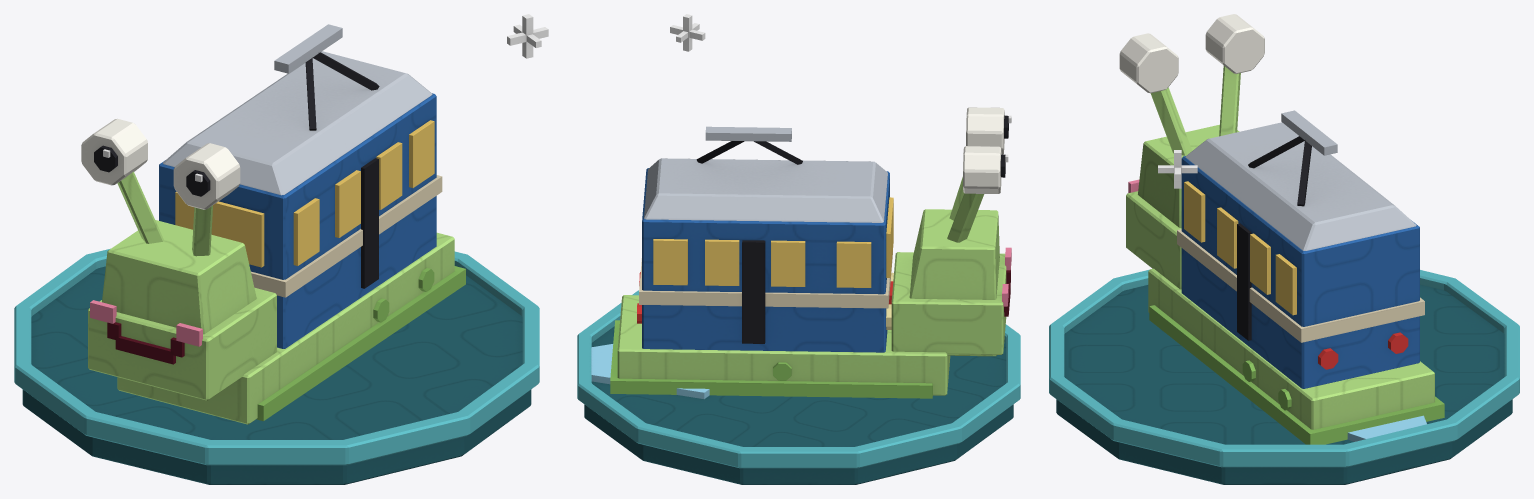
Rendered from SubwaySnail.fbx.
3 views of the same model, side by side, from view 1: azimuth 30°, elevation 25°; view 2: azimuth 150°, elevation 25°; view 3: azimuth 270°, elevation 25° (orthographic). The views are drawn at different scales.
Parts seen in each view (by area): view 1: Art_SubwaySnail_Stand, Art_SubwaySnail_Shell, Art_SubwaySnail_Body, Art_SubwaySnail_StalkR, Art_SubwaySnail_StalkL; view 2: Art_SubwaySnail_Shell, Art_SubwaySnail_Stand, Art_SubwaySnail_Body, Art_SubwaySnail_StalkR, Art_SubwaySnail_StalkL; view 3: Art_SubwaySnail_Stand, Art_SubwaySnail_Shell, Art_SubwaySnail_Body, Art_SubwaySnail_StalkL, Art_SubwaySnail_StalkR.
Part boxes in pixels (x1=…): Art_SubwaySnail_Stand: x1=14, y1=14, x2=548, y2=484; Art_SubwaySnail_Shell: x1=159, y1=24, x2=442, y2=348; Art_SubwaySnail_Body: x1=88, y1=220, x2=465, y2=424; Art_SubwaySnail_StalkR: x1=81, y1=118, x2=164, y2=243; Art_SubwaySnail_StalkL: x1=173, y1=143, x2=240, y2=256; Art_SubwaySnail_Shell: x1=637, y1=126, x2=893, y2=352; Art_SubwaySnail_Stand: x1=577, y1=14, x2=1020, y2=484; Art_SubwaySnail_Body: x1=610, y1=209, x2=1011, y2=398; Art_SubwaySnail_StalkR: x1=947, y1=146, x2=1008, y2=242; Art_SubwaySnail_StalkL: x1=949, y1=107, x2=1011, y2=220; Art_SubwaySnail_Stand: x1=1049, y1=150, x2=1519, y2=484; Art_SubwaySnail_Shell: x1=1177, y1=110, x2=1424, y2=388; Art_SubwaySnail_Body: x1=1126, y1=124, x2=1444, y2=444; Art_SubwaySnail_StalkL: x1=1119, y1=33, x2=1192, y2=155; Art_SubwaySnail_StalkR: x1=1205, y1=14, x2=1264, y2=136.
Bounding box in the file's own units: 3.09 × 2.33 × 3.09.
